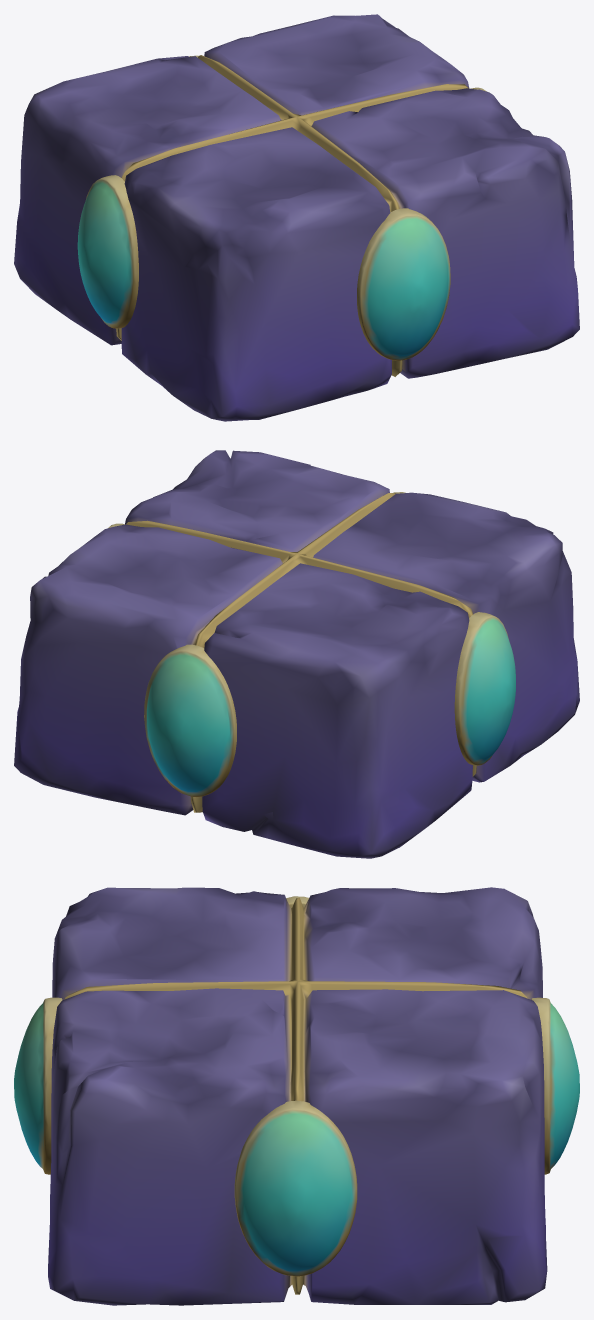
The model's file is SM_pressTile_purple.fbx.
3 views of the same model, one above another, from view 1: azimuth 30°, elevation 25°; view 2: azimuth 150°, elevation 25°; view 3: azimuth 270°, elevation 25° (orthographic). The views are drawn at different scales.
Parts seen in each view (by area): view 1: pressureTile_purple; view 2: pressureTile_purple; view 3: pressureTile_purple.
Boxes of the visible parts, left/top/right/bottom form: pressureTile_purple: left=14, top=14, right=579, bottom=421; pressureTile_purple: left=14, top=450, right=579, bottom=858; pressureTile_purple: left=14, top=887, right=579, bottom=1305.
Size of the model in its own units: 109 by 47.84 by 109.
